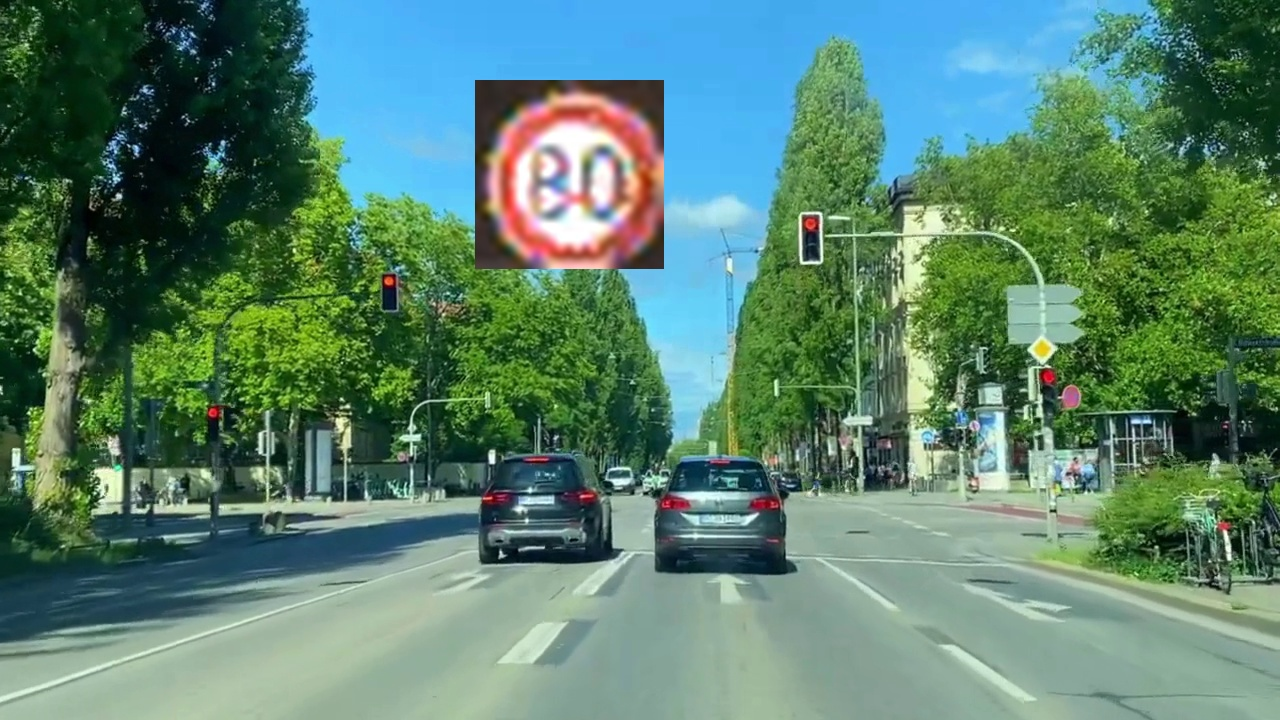Speed 80: (475, 80, 664, 269)
